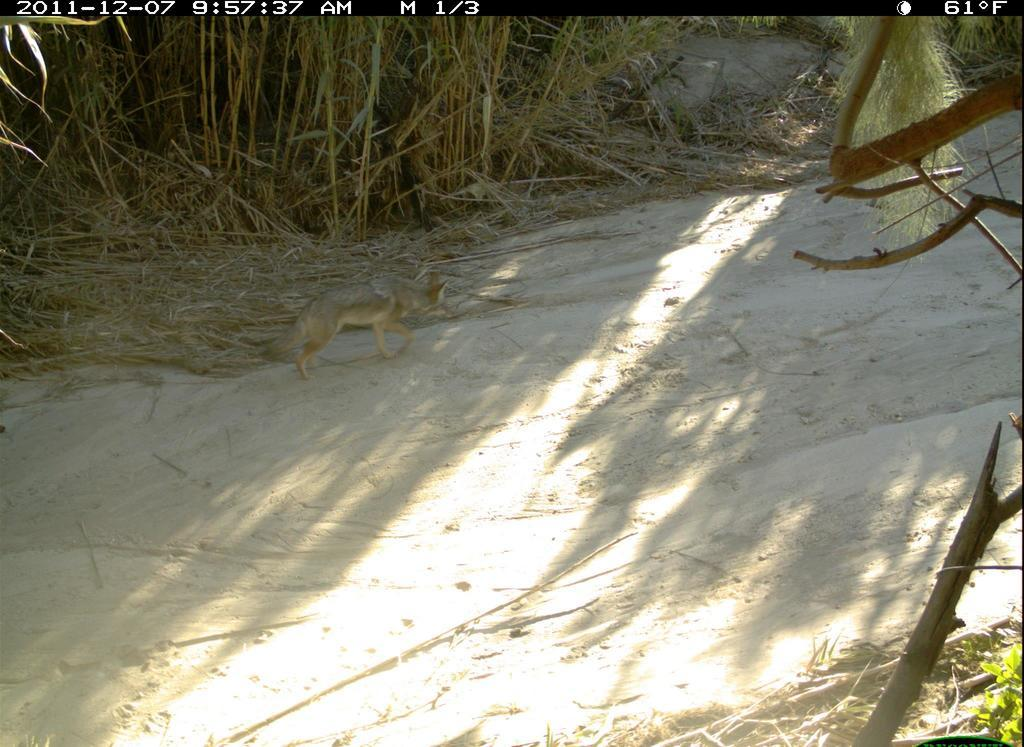coyote: (259, 264, 463, 383)
